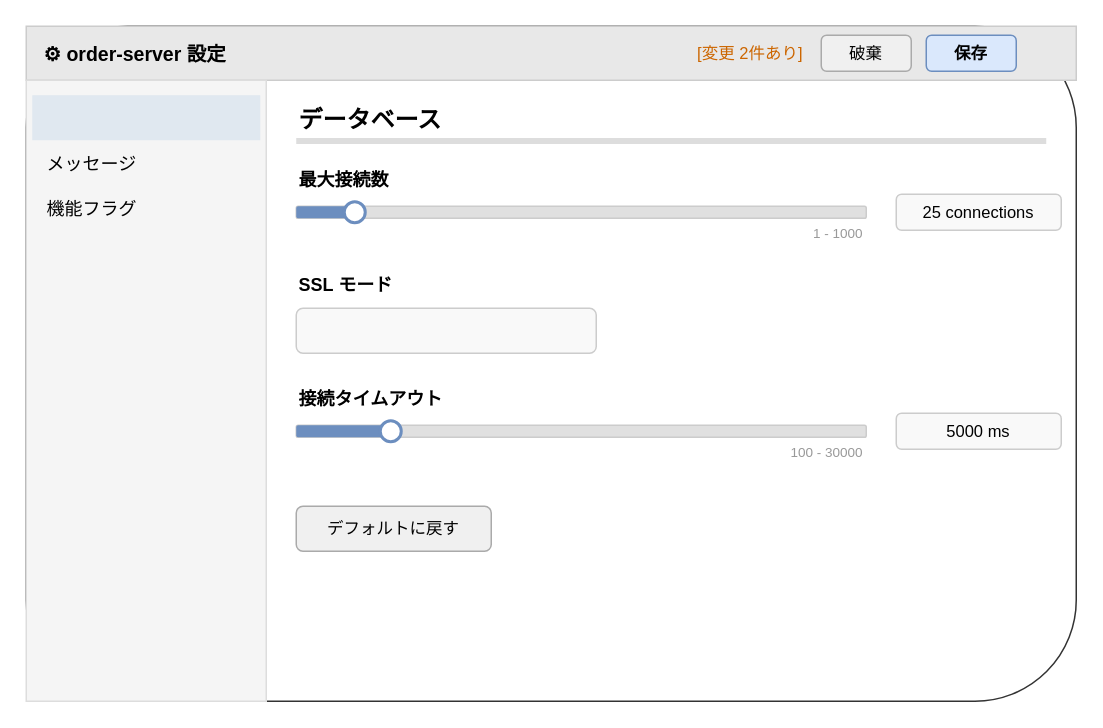
This 1103x728 diagram has some shape labels left out. The centre of each missing label's shape, as x and y in pixels:
"> データベース" goes at [146,117].
"require ▼" goes at [445,330].
